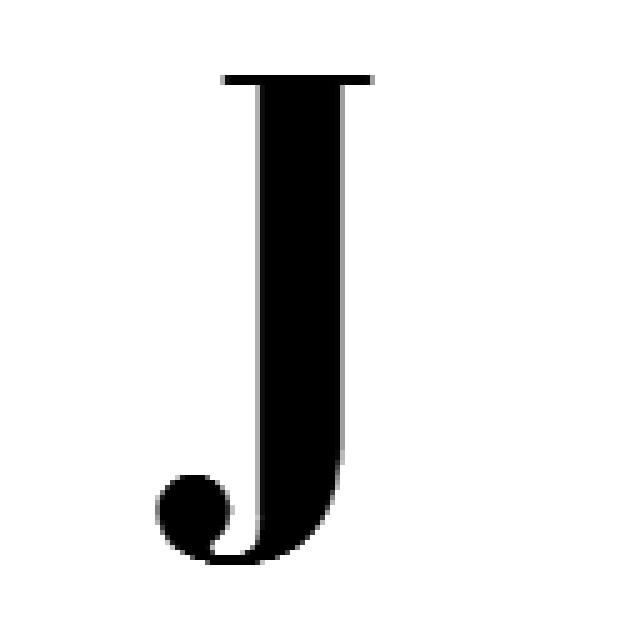J: (150, 65, 375, 570)
